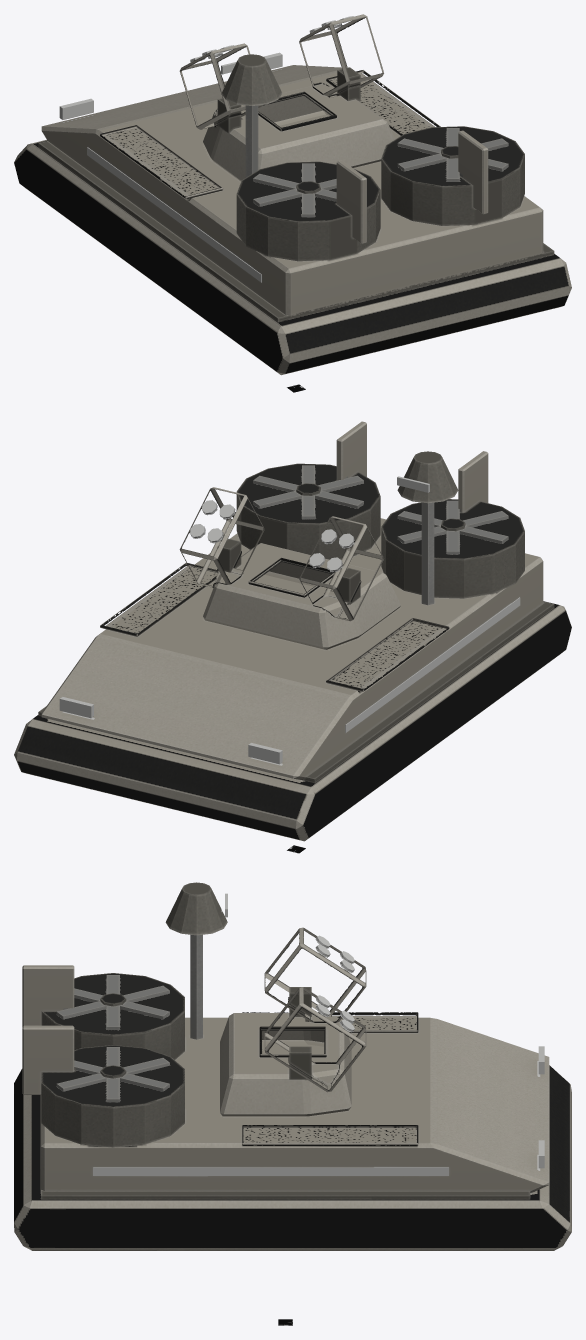
The model's file is ord_halcyon.fbx.
The picture shows the model from 3 angles, top to bottom: view 1: azimuth 30°, elevation 25°; view 2: azimuth 150°, elevation 25°; view 3: azimuth 270°, elevation 25°; orthographic projection. The views are drawn at different scales.
Parts seen in each view (by area): view 1: base_bar, turret_bar, fan2_bar, fan1_bar, base_glow_running_bar, base_glow_head_bar; view 2: base_bar, turret_bar, fan2_bar, fan1_bar, base_glow_running_bar, turret_glow_weapon_bar, base_glow_head_bar; view 3: base_bar, turret_bar, base_glow_running_bar, fan2_bar, fan1_bar, turret_glow_weapon_bar.
Part boxes in pixels (x1=…): base_bar: x1=14, y1=54, x2=571, y2=375; turret_bar: x1=179, y1=14, x2=395, y2=181; fan2_bar: x1=397, y1=128, x2=508, y2=181; fan1_bar: x1=253, y1=163, x2=336, y2=217; base_glow_running_bar: x1=87, y1=62, x2=261, y2=282; base_glow_head_bar: x1=59, y1=52, x2=282, y2=119; base_bar: x1=14, y1=421, x2=571, y2=841; turret_bar: x1=179, y1=487, x2=400, y2=649; fan2_bar: x1=253, y1=465, x2=363, y2=519; fan1_bar: x1=397, y1=500, x2=508, y2=554; base_glow_running_bar: x1=345, y1=476, x2=520, y2=732; turret_glow_weapon_bar: x1=190, y1=500, x2=353, y2=571; base_glow_head_bar: x1=59, y1=697, x2=282, y2=764; base_bar: x1=14, y1=882, x2=571, y2=1250; turret_bar: x1=220, y1=927, x2=366, y2=1116; base_glow_running_bar: x1=93, y1=893, x2=448, y2=1175; fan2_bar: x1=56, y1=1047, x2=169, y2=1102; fan1_bar: x1=56, y1=975, x2=169, y2=1029; turret_glow_weapon_bar: x1=316, y1=935, x2=354, y2=1031.
Size of the model in its own units: 460 by 580 by 752.
Materials: 2 (2 with a texture image).
